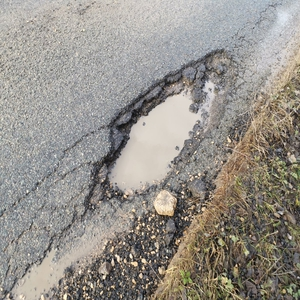pothole: (96, 56, 239, 208)
